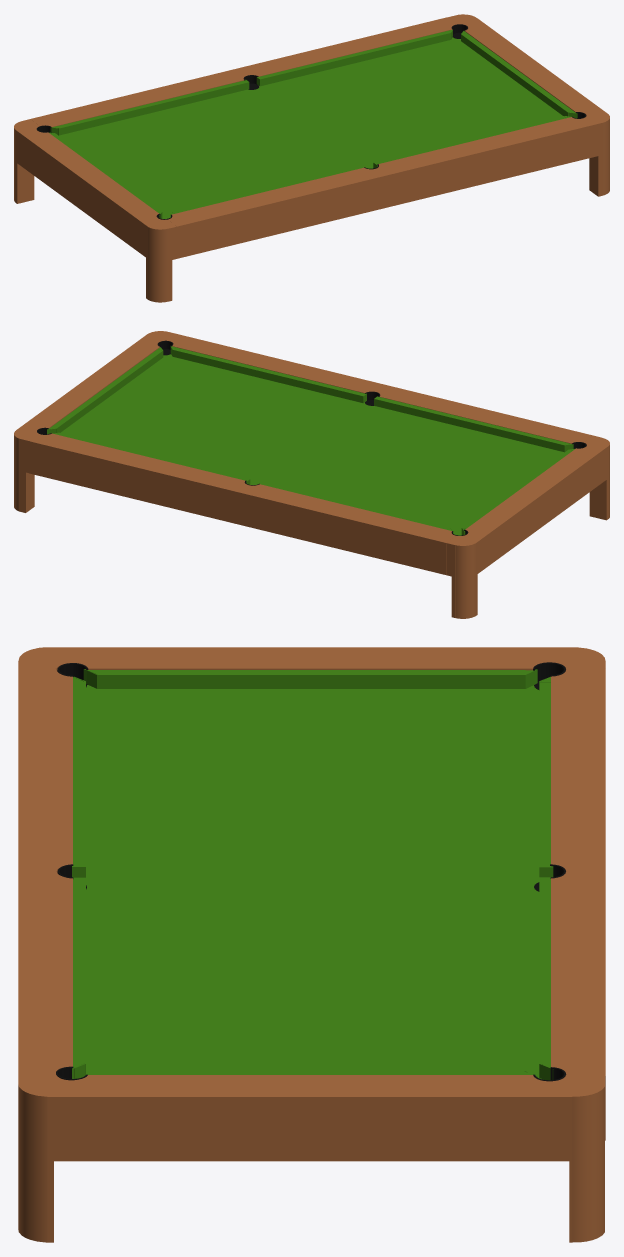
The picture shows the model from 3 angles, top to bottom: view 1: azimuth 30°, elevation 25°; view 2: azimuth 150°, elevation 25°; view 3: azimuth 270°, elevation 25°; orthographic projection. The views are drawn at different scales.
Parts seen in each view (by area): view 1: superfice_da_mesa, parteexterna, Tabela; view 2: superfice_da_mesa, parteexterna, Tabela; view 3: superfice_da_mesa, parteexterna, Tabela.
Boxes of the visible parts, x1=… form: superfice_da_mesa: x1=59, y1=37, x2=562, y2=218; parteexterna: x1=14, y1=14, x2=609, y2=302; Tabela: x1=49, y1=29, x2=577, y2=218; superfice_da_mesa: x1=60, y1=354, x2=564, y2=535; parteexterna: x1=14, y1=331, x2=609, y2=618; Tabela: x1=47, y1=346, x2=575, y2=535; superfice_da_mesa: x1=86, y1=685, x2=541, y2=1079; parteexterna: x1=18, y1=647, x2=605, y2=1242; Tabela: x1=72, y1=669, x2=553, y2=1080.
Bounding box in the file's own units: 28.66 × 4.35 × 15.83.
